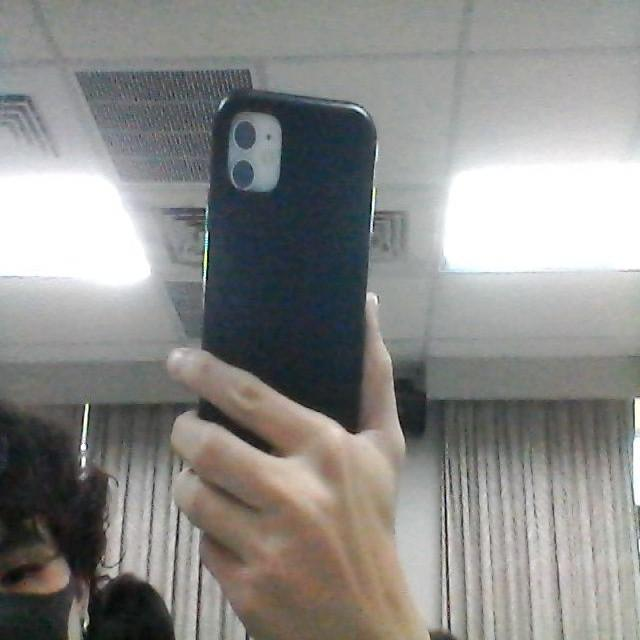Phone: (199, 86, 381, 419)
